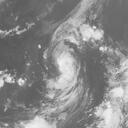cyclone: (41, 38, 88, 106)
